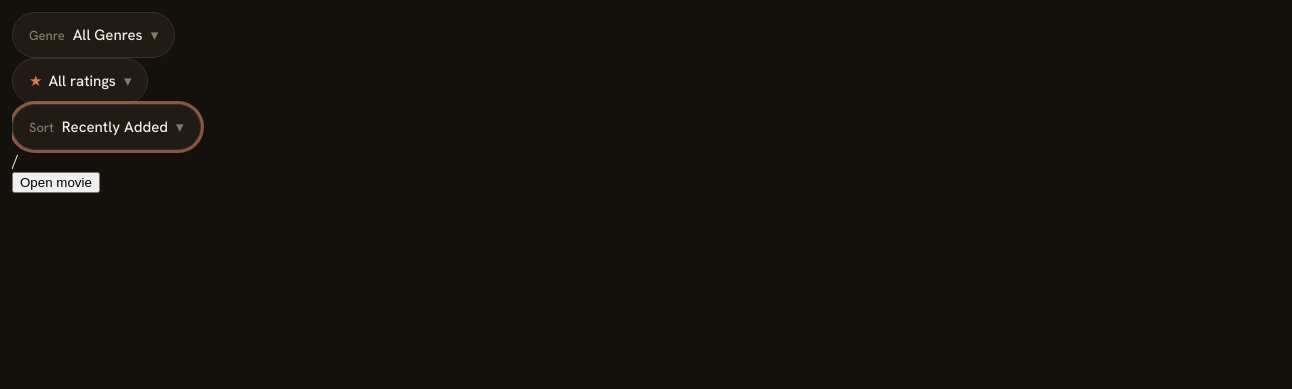
Scenario: LibraryFilters — choosing an order › shuts the panel once an order is chosen
Click the button "Sort Recently Added ▾" at [106, 127], box top-left (12, 104), bottom-right (200, 150)
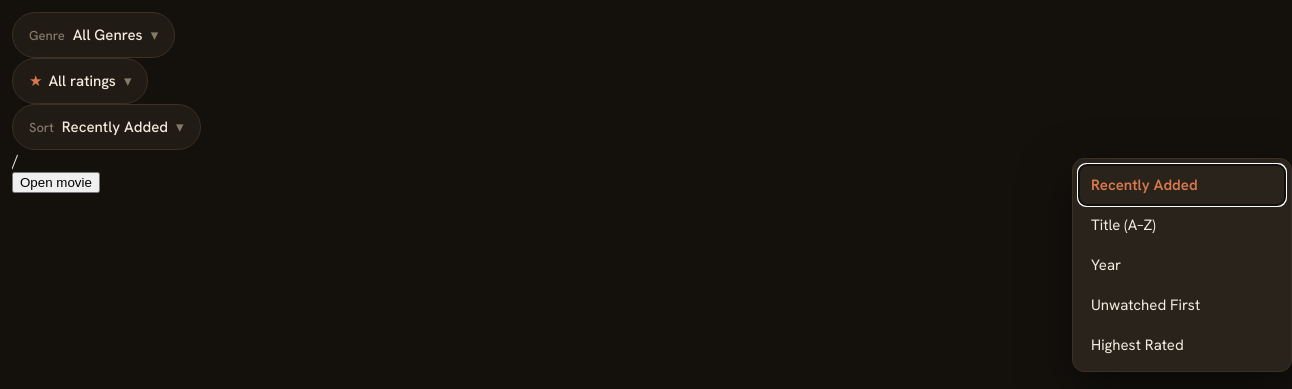
Click the menu item "Year" at [1182, 265], box top-left (1079, 245), bottom-right (1285, 285)
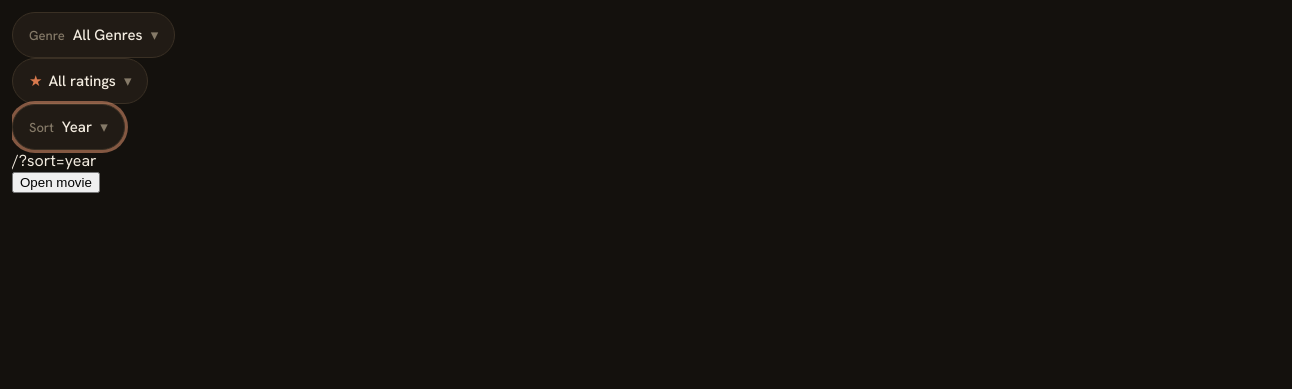
expect the menu item "Title (A–Z)" is gone: met
